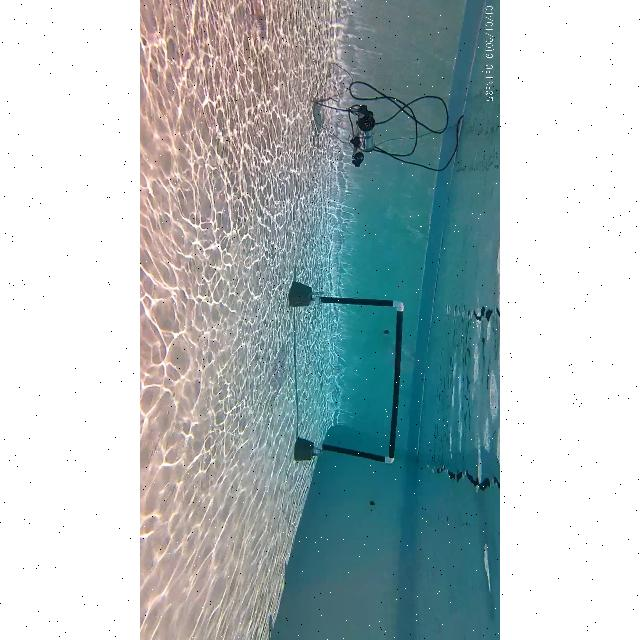prequal gate: (310, 292, 404, 463)
prequal gate leg l: (306, 286, 408, 318)
prequal gate leg r: (308, 436, 400, 472)
